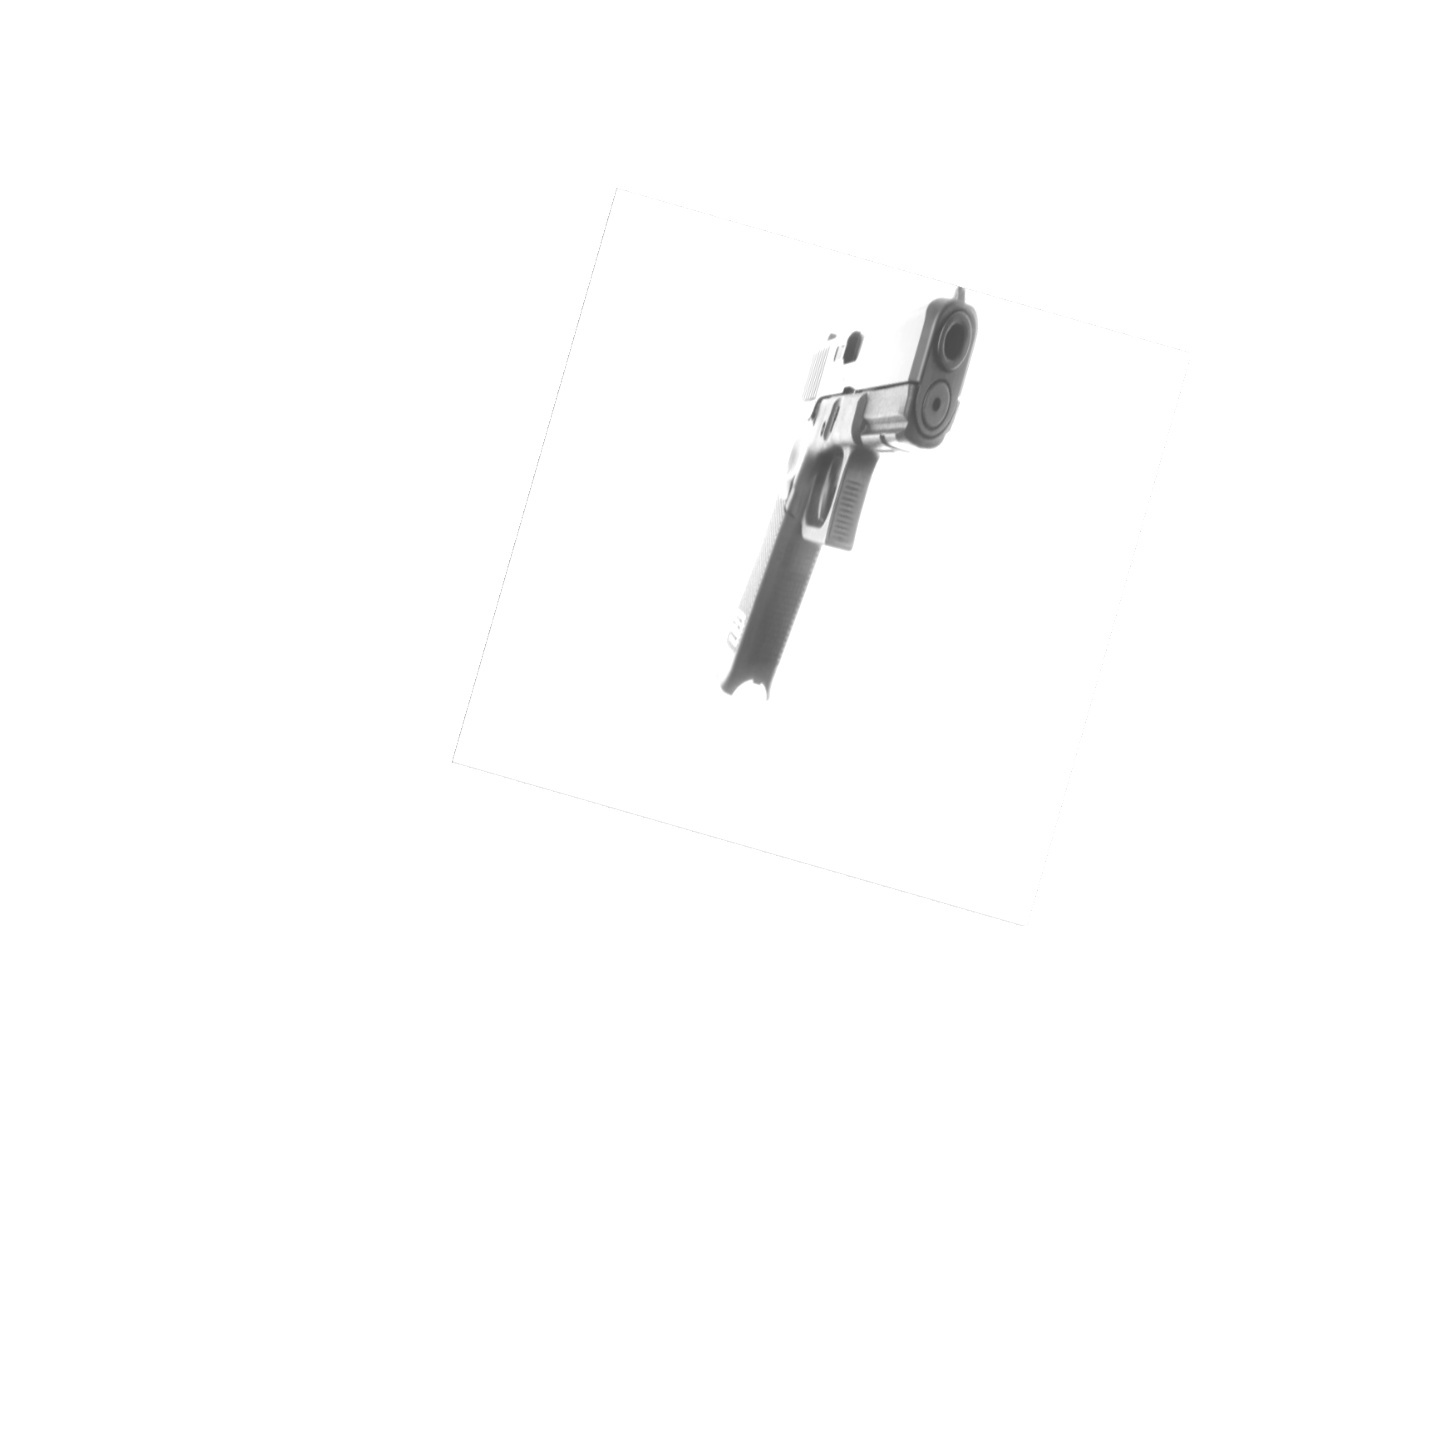gun: (719, 287, 978, 701)
